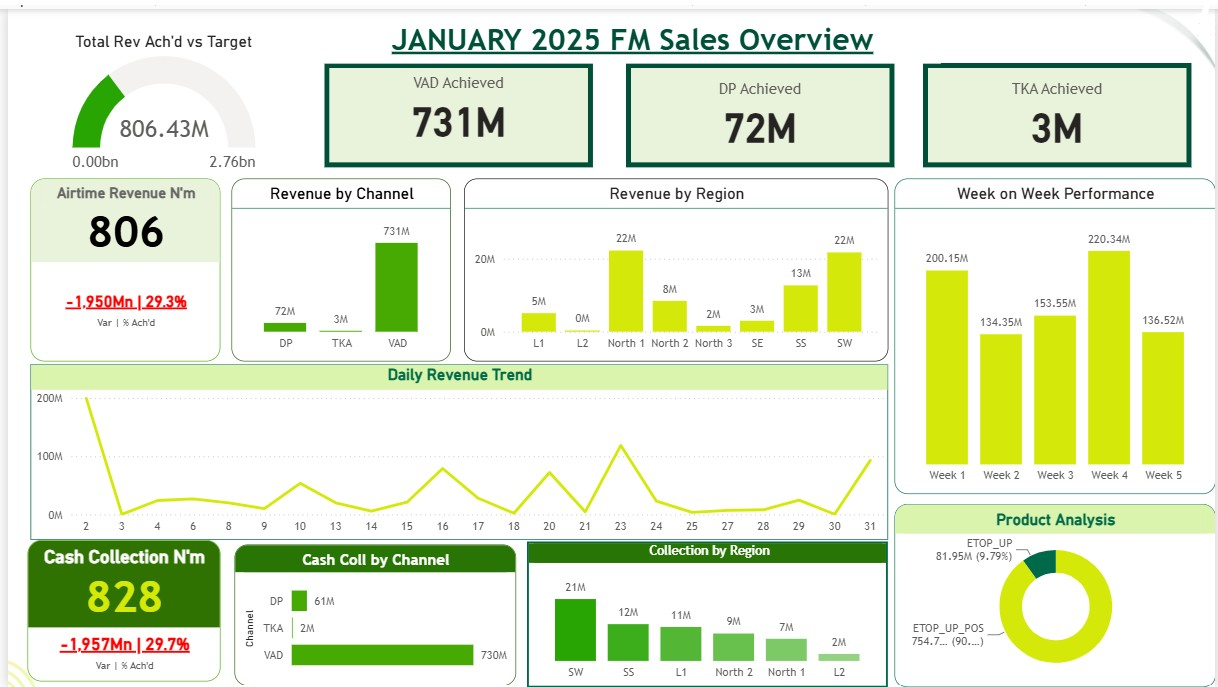

This screenshot's page, from the dashboard's own definition file:
{"tool":"powerbi","page":{"name":"Revenue","canvas":[1280,720],"ordinal":0},"visuals":[{"type":"gauge","title":"Total Rev Ach''d vs Target","fields":{"Y":["Sum(ERP Sales.Line Amount)"],"MaxValue":["Sum(Target.Rev Target (₦))"]},"box":[9.4,23.4,311,156.3],"z":0},{"type":"clusteredColumnChart","title":"Revenue by Channel","fields":{"Y":["Sum(ERP Sales.Line Amount)"],"Category":["Target.Channel"]},"box":[237.6,179.7,232.9,193.8],"z":1000},{"type":"cardVisual","title":"VAD","fields":{"Data":["Sum(ERP Sales.Line Amount)"]},"box":[336,57.8,284.5,111],"z":6000},{"type":"cardVisual","title":"VAD","fields":{"Data":["Sum(ERP Sales.Line Amount)"]},"box":[654.9,57.8,284.5,111],"z":7000},{"type":"cardVisual","title":"VAD","fields":{"Data":["Sum(ERP Sales.Line Amount)"]},"box":[970.6,57.8,284.5,111],"z":8000},{"type":"textbox","box":[336,7.8,653.3,50],"z":10000},{"type":"card","title":"Airtime Revenue N''m","fields":{"Values":["ERP Sales.Variance | % Ach'd"]},"box":[23.4,179.7,201.6,193.8],"z":12000},{"type":"columnChart","title":"Revenue by Region","fields":{"Category":["Target.Region"],"Y":["Sum(ERP Sales.Revenue)"]},"box":[483,179.7,450.1,193.8],"z":16001},{"type":"clusteredColumnChart","title":"Week on Week Performance","fields":{"Y":["Sum(ERP Sales.Revenue)"],"Category":["ERP Sales.Inv Creation Date (groups)"]},"box":[939.4,179.7,340.7,334.5],"z":16002},{"type":"lineChart","title":"Daily Revenue Trend","fields":{"Y":["Sum(ERP Sales.Revenue)"],"Category":["ERP Sales.Inv Creation Date.Variation.Date Hierarchy.Day"]},"box":[23.4,376.7,909.7,186],"z":16003},{"type":"donutChart","title":"Product Analysis","fields":{"Y":["Sum(ERP Sales.Revenue)"],"Category":["ERP Sales.Product Code"]},"box":[939.4,525.2,340.7,195.4],"z":16004},{"type":"card","title":"Cash Collection N''m","fields":{"Values":["Cash Coll.Variance2 | % Ach'd"]},"box":[20.3,562.7,204.8,150],"z":16005},{"type":"clusteredBarChart","title":"Cash Coll by Channel","fields":{"Category":["Order by Channel.Channel"],"Y":["Sum(Cash Coll.Cash Coll)"]},"box":[240.7,567.4,298.5,150],"z":16006},{"type":"clusteredColumnChart","title":"Collection by Region","fields":{"Category":["Target.Region"],"Y":["Sum(Cash Coll.Cash Coll)"]},"box":[550.2,564.2,382.9,156.3],"z":16007}]}

Visuals, with their boxes in screenshot pixels (x1, y1, x2, y2), scaled from the page's 1280x720 canvas onto the 1218x687 screenshot:
"Total Rev Ach''d vs Target" gauge: <region>9, 22, 305, 171</region>
"Revenue by Channel" clusteredColumnChart: <region>226, 171, 448, 356</region>
"VAD" cardVisual: <region>320, 55, 590, 161</region>
"VAD" cardVisual: <region>623, 55, 894, 161</region>
"VAD" cardVisual: <region>924, 55, 1194, 161</region>
textbox: <region>320, 7, 941, 55</region>
"Airtime Revenue N''m" card: <region>22, 171, 214, 356</region>
"Revenue by Region" columnChart: <region>460, 171, 888, 356</region>
"Week on Week Performance" clusteredColumnChart: <region>894, 171, 1217, 491</region>
"Daily Revenue Trend" lineChart: <region>22, 359, 888, 537</region>
"Product Analysis" donutChart: <region>894, 501, 1217, 686</region>
"Cash Collection N''m" card: <region>19, 537, 214, 680</region>
"Cash Coll by Channel" clusteredBarChart: <region>229, 541, 513, 685</region>
"Collection by Region" clusteredColumnChart: <region>524, 538, 888, 686</region>
